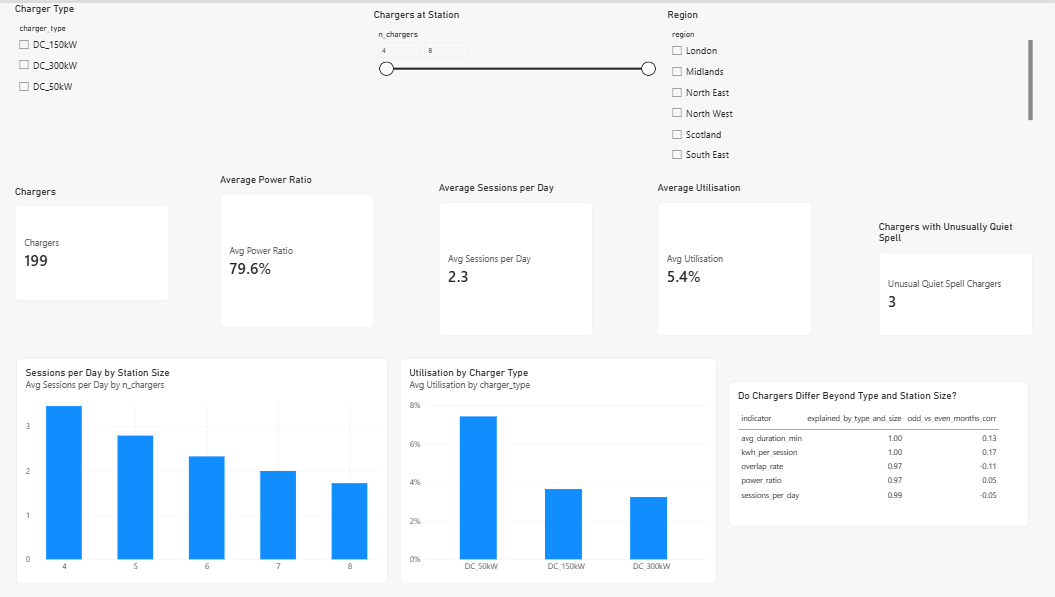

Layout of this report page (visuals, bound fields, positions):
{"tool":"powerbi","page":{"name":"Charger_Health","canvas":[1920,1080],"ordinal":0},"visuals":[{"type":"slicer","title":"Charger Type","fields":{"Values":["charger_health_indicators.charger_type"]},"box":[27.3,0,625,279.5],"z":0},{"type":"slicer","title":"Chargers at Station","fields":{"Values":["charger_health_indicators.n_chargers"]},"box":[679.5,11.4,515.9,279.5],"z":1},{"type":"slicer","title":"Region","fields":{"Values":["charger_health_indicators.region"]},"box":[1213.6,11.4,663.6,279.5],"z":2},{"type":"cardVisual","title":"Chargers","fields":{"Data":["charger_health_indicators.Chargers"]},"box":[27.3,331.8,280,210],"z":3},{"type":"cardVisual","title":"Average Utilisation","fields":{"Data":["charger_health_indicators.Avg Utilisation"]},"box":[1195.5,325,280,280],"z":4},{"type":"cardVisual","title":"Average Power Ratio","fields":{"Data":["charger_health_indicators.Avg Power Ratio"]},"box":[400,311.4,280,280],"z":5},{"type":"cardVisual","title":"Average Sessions per Day","fields":{"Data":["charger_health_indicators.Avg Sessions per Day"]},"box":[797.7,325,280,280],"z":6},{"type":"cardVisual","title":"Chargers with Unusually Quiet Spell","fields":{"Data":["charger_health_indicators.Unusual Quiet Spell Chargers"]},"box":[1597.7,395.5,280,210],"z":7},{"type":"clusteredColumnChart","title":"Utilisation by Charger Type","fields":{"Category":["charger_health_indicators.charger_type"],"Y":["charger_health_indicators.Avg Utilisation"]},"box":[727.3,645.5,575,411.4],"z":8},{"type":"clusteredColumnChart","title":"Sessions per Day by Station Size","fields":{"Category":["charger_health_indicators.n_chargers"],"Y":["charger_health_indicators.Avg Sessions per Day"]},"box":[29.5,645.5,675,411.4],"z":9},{"type":"tableEx","title":"Do Chargers Differ Beyond Type and Station Size?","fields":{"Values":["indicator_reliability.indicator","indicator_reliability.explained_by_type_and_size","indicator_reliability.odd_vs_even_months_corr"]},"box":[1325,688.6,545.5,263.6],"z":10}]}

Visuals, with their boxes in screenshot pixels (x1, y1, x2, y2), scaled from the page's 1920x1080 canvas onto the 1055x597 screenshot:
"Charger Type" slicer: pyautogui.locateOnScreen(15, 0, 358, 155)
"Chargers at Station" slicer: pyautogui.locateOnScreen(373, 6, 657, 161)
"Region" slicer: pyautogui.locateOnScreen(667, 6, 1031, 161)
"Chargers" cardVisual: pyautogui.locateOnScreen(15, 183, 169, 299)
"Average Utilisation" cardVisual: pyautogui.locateOnScreen(657, 180, 811, 334)
"Average Power Ratio" cardVisual: pyautogui.locateOnScreen(220, 172, 374, 327)
"Average Sessions per Day" cardVisual: pyautogui.locateOnScreen(438, 180, 592, 334)
"Chargers with Unusually Quiet Spell" cardVisual: pyautogui.locateOnScreen(878, 219, 1032, 335)
"Utilisation by Charger Type" clusteredColumnChart: pyautogui.locateOnScreen(400, 357, 716, 584)
"Sessions per Day by Station Size" clusteredColumnChart: pyautogui.locateOnScreen(16, 357, 387, 584)
"Do Chargers Differ Beyond Type and Station Size?" tableEx: pyautogui.locateOnScreen(728, 381, 1028, 526)
